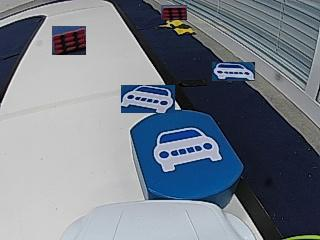safety: (154, 129, 223, 170)
